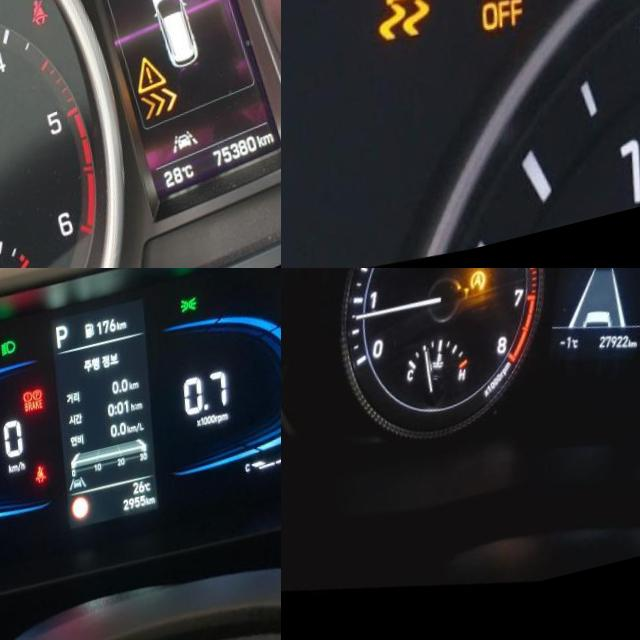Central Warning lamp: (119, 65, 159, 115)
Low beam: (0, 350, 10, 368)
SideLamp: (174, 317, 191, 336)
